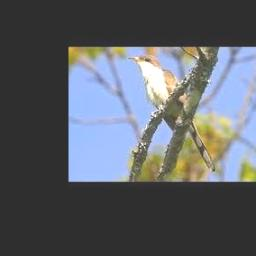Cuckoo: (127, 55, 215, 172)
